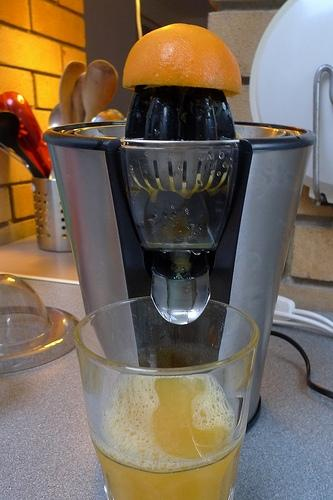orange: (121, 23, 240, 98)
